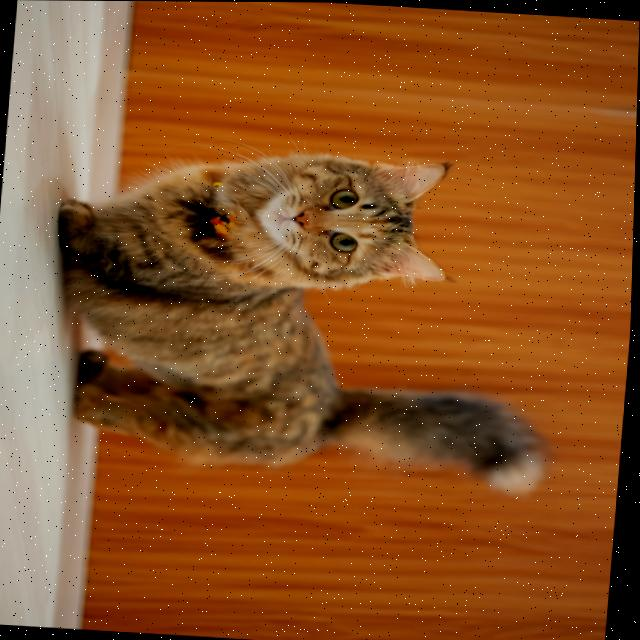Munchkin: (31, 131, 580, 501)
